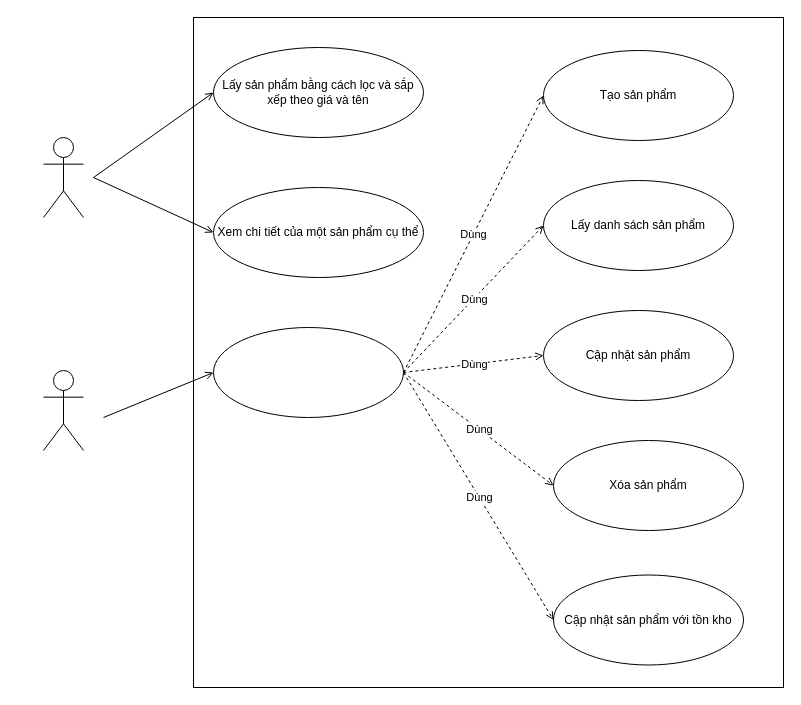
Some shapes in this 801 by 705 pixel diagram are drawn without their labels. Each missing label, with the box of its shape:
Người mua: (42, 136, 84, 218)
Quản lý sản phẩm: (212, 326, 404, 418)
Quản trị hệ thống: (42, 370, 84, 450)
